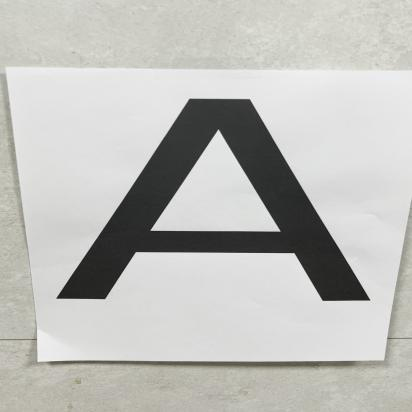seat: (38, 83, 380, 321)
